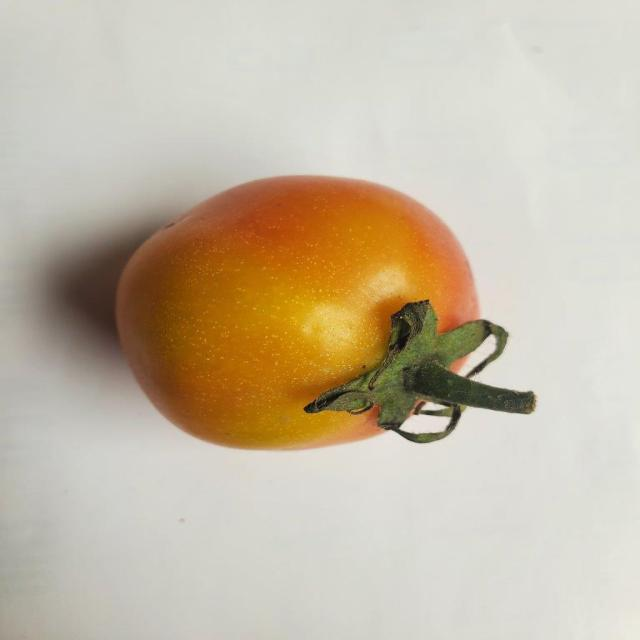Tomato: (108, 171, 536, 454)
